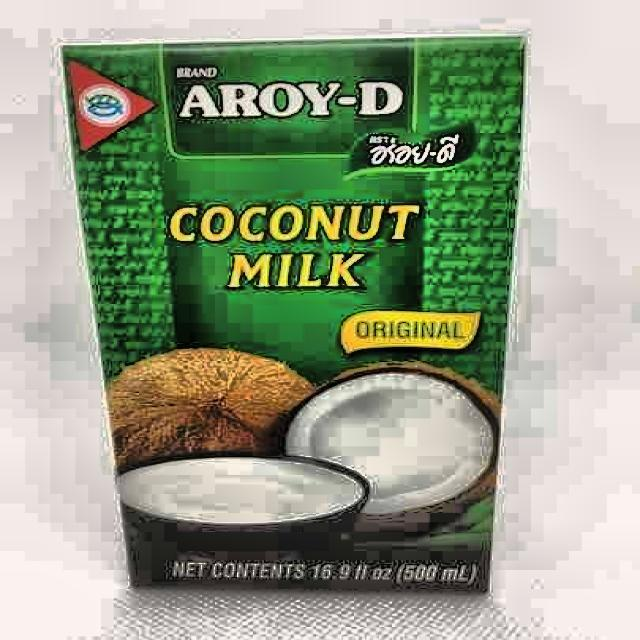cardboard: (58, 34, 528, 594)
